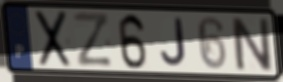6: (116, 11, 148, 70), (196, 15, 229, 72)
J: (159, 17, 188, 68)
N: (228, 15, 276, 74)
X: (34, 9, 73, 69)
Z: (71, 10, 115, 69)
